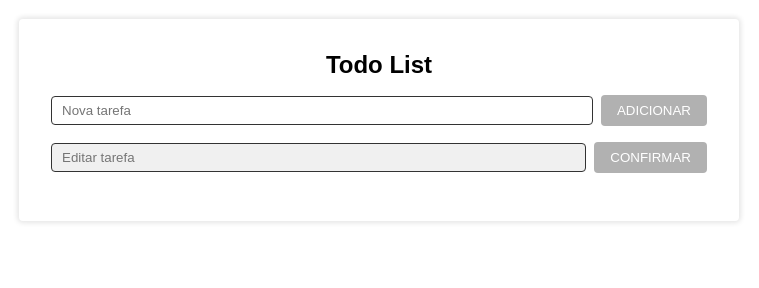
Test: <TodoList /> › can create new todo
Type "Lavar o carro" into the field with placeholder "Nova tarefa".
click(322, 110); type("Lavar o carro")  # box [51, 96, 593, 125]
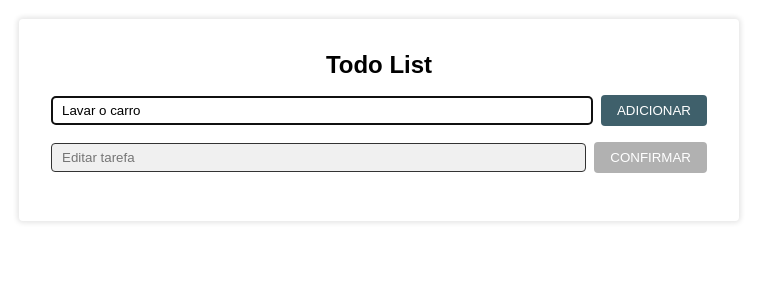
Click the button "ADICIONAR".
click(654, 110)  # box [601, 95, 707, 126]
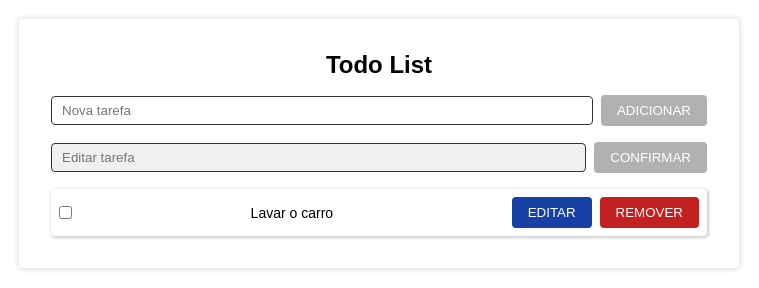
Expected: the text "Lavar o carro" is shown, [251, 204, 333, 220]
